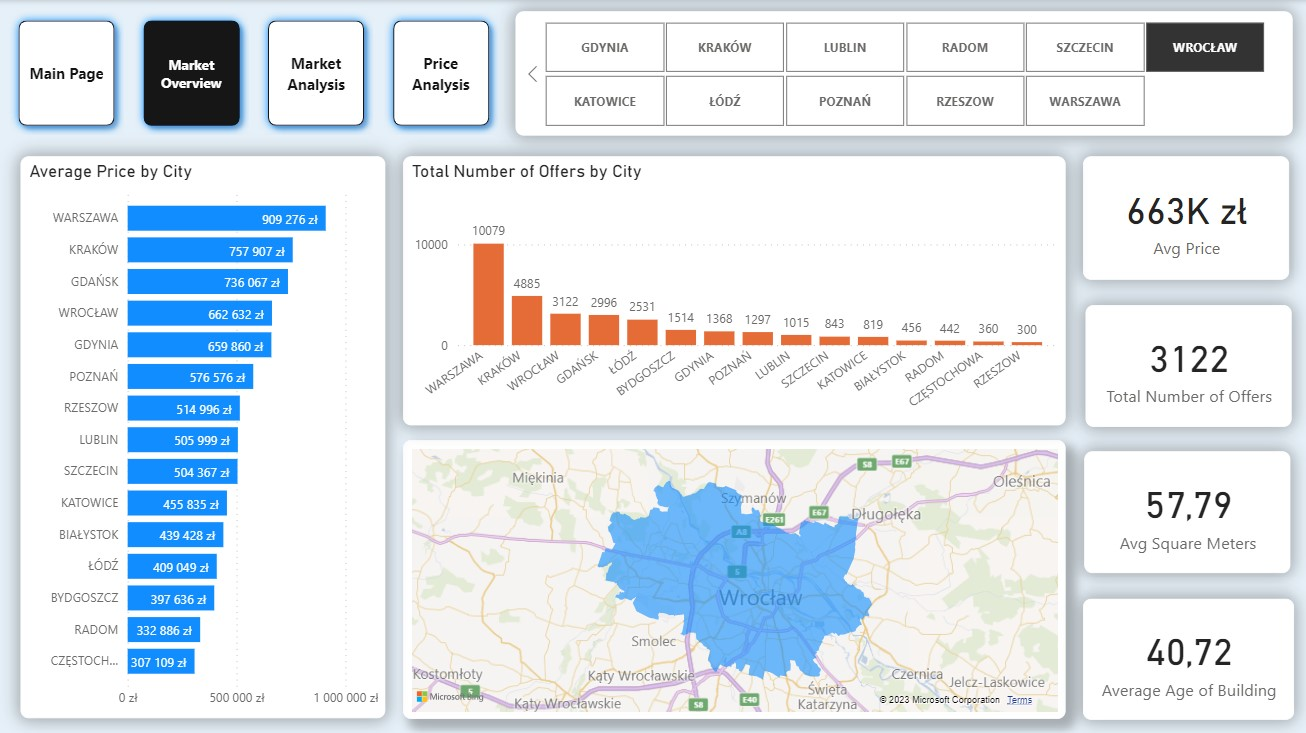

What the dashboard file says about the page in this screenshot:
{"tool":"powerbi","page":{"name":"Market Overview","canvas":[1280,720],"ordinal":1},"visuals":[{"type":"filledMap","fields":{"Category":["DIM_City.city"]},"box":[395.6,430.6,647.6,272.6],"z":0},{"type":"card","fields":{"Values":["_Measures.Avg Price"]},"box":[1061.3,153.2,201.4,120.6],"z":1000},{"type":"card","fields":{"Values":["_Measures.Avg Square Meters"]},"box":[1061.8,441.4,201.4,119.4],"z":2000},{"type":"card","fields":{"Values":["_Measures.Nuber of offers"]},"box":[1063,297.9,201.4,119.4],"z":3000},{"type":"card","fields":{"Values":["_Measures.Average Age of Building"]},"box":[1061.3,584.9,206.2,118.2],"z":4000},{"type":"columnChart","title":"Total Number of Offers by City","fields":{"Y":["_Measures.Nuber of offers"],"Category":["DIM_City.city"]},"box":[395.6,153.2,647.6,262.9],"z":5000},{"type":"barChart","title":"Average Price by City","fields":{"Y":["_Measures.Avg Price"],"Category":["DIM_City.city"]},"box":[21.7,153.2,357,549.9],"z":6000},{"type":"slicer","fields":{"Values":["DIM_City.city"]},"box":[506.2,11.2,760,121.2],"z":7000},{"type":"pageNavigator","box":[11.2,11.2,481.2,121.2],"z":8000}]}

Visuals, with their boxes in screenshot pixels (x1, y1, x2, y2), scaled from the page's 1280x720 canvas onto the 1306x733 screenshot:
filledMap - DIM_City.city: (404,438,1064,716)
card - _Measures.Avg Price: (1083,156,1288,279)
card - _Measures.Avg Square Meters: (1083,449,1289,571)
card - _Measures.Nuber of offers: (1085,303,1290,425)
card - _Measures.Average Age of Building: (1083,595,1293,716)
"Total Number of Offers by City" columnChart: (404,156,1064,424)
"Average Price by City" barChart: (22,156,386,716)
slicer - DIM_City.city: (516,11,1292,135)
pageNavigator: (11,11,502,135)
